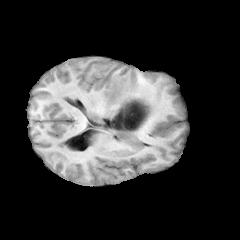glioma: (101, 73, 151, 140)
